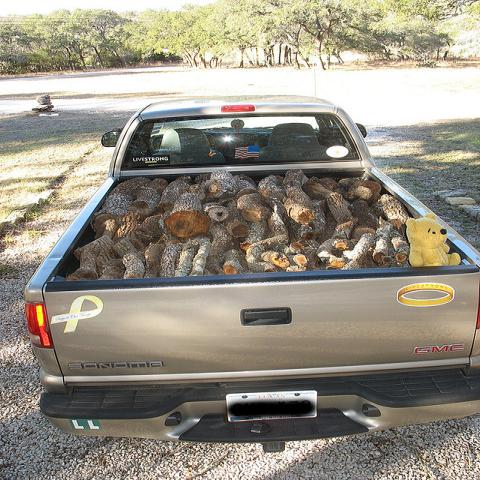truck: (20, 92, 479, 458)
